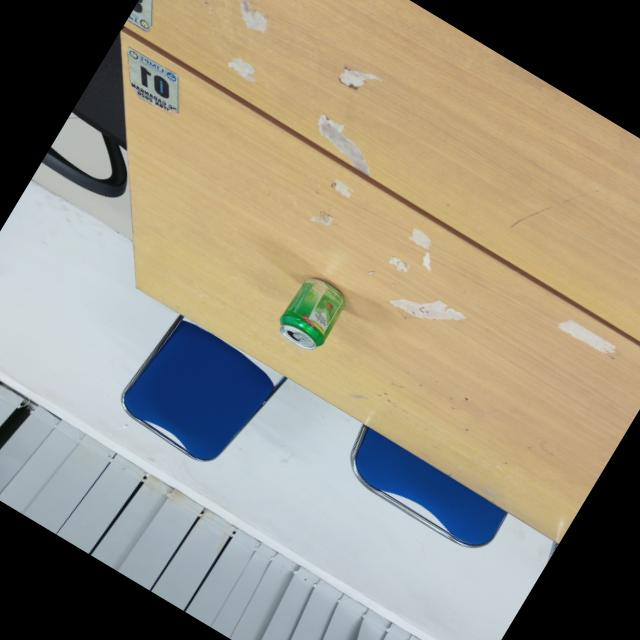ademsarikaleng: (270, 270, 353, 358)
